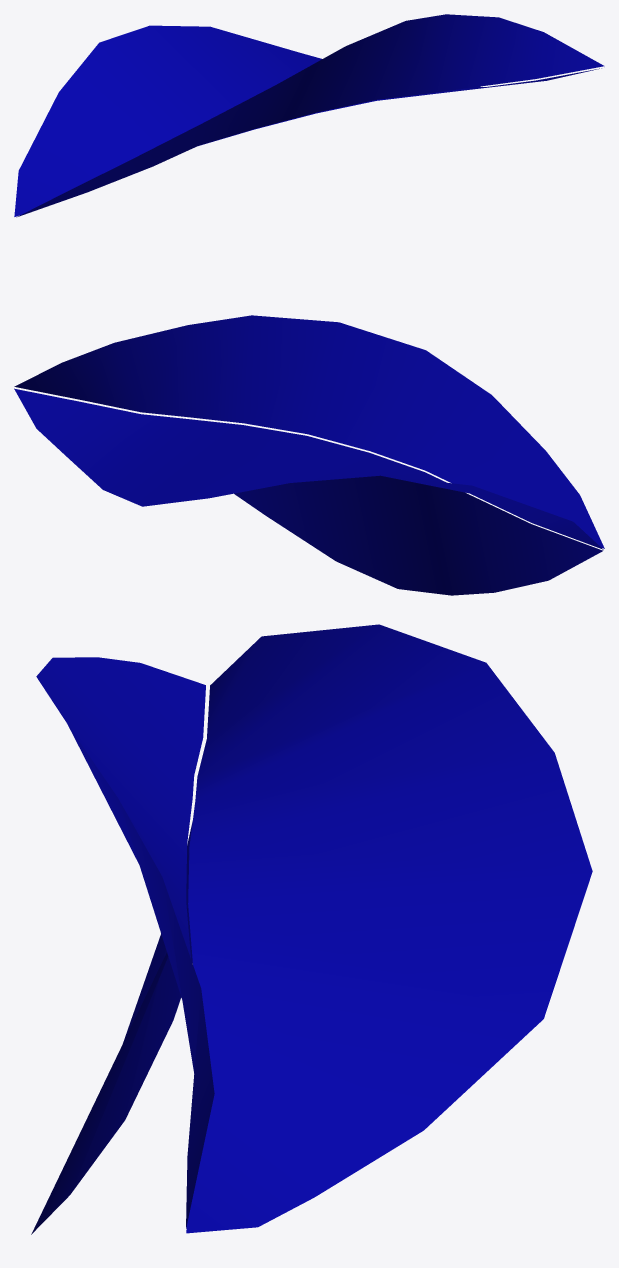
File: Marble_Type03_90sTwist_001.fbx
3 views of the same model, one above another, from view 1: azimuth 30°, elevation 25°; view 2: azimuth 150°, elevation 25°; view 3: azimuth 270°, elevation 25° (orthographic). The views are drawn at different scales.
Visible parts, largest first — view 1: Marble_Type03_90sTwist_001; view 2: Marble_Type03_90sTwist_001; view 3: Marble_Type03_90sTwist_001.
Boxes of the visible parts, x1,y1,x2,y2 form: Marble_Type03_90sTwist_001: (14, 14, 604, 217); Marble_Type03_90sTwist_001: (14, 315, 604, 595); Marble_Type03_90sTwist_001: (31, 624, 592, 1234).
Size of the model in its own units: 95.38 by 36.58 by 40.03.
